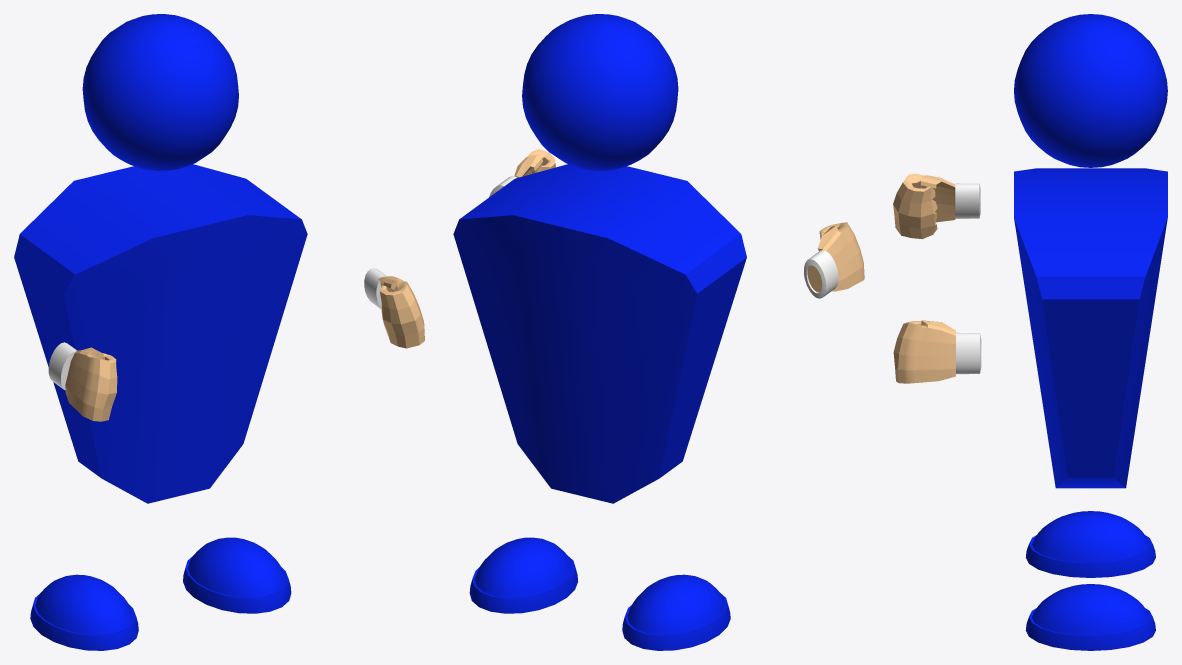
The model's file is CharacterBase.obj.
The picture shows the model from 3 angles, left to right: view 1: azimuth 30°, elevation 25°; view 2: azimuth 150°, elevation 25°; view 3: azimuth 270°, elevation 25°; orthographic projection. The views are drawn at different scales.
Visible parts, largest first — view 1: Character; view 2: Character; view 3: Character.
Boxes of the visible parts, x1,y1,x2,y2 form: Character: [14, 14, 424, 650]; Character: [453, 14, 864, 650]; Character: [893, 14, 1167, 650].
Bounding box in the file's own units: 1.26 × 2.05 × 0.8921.
